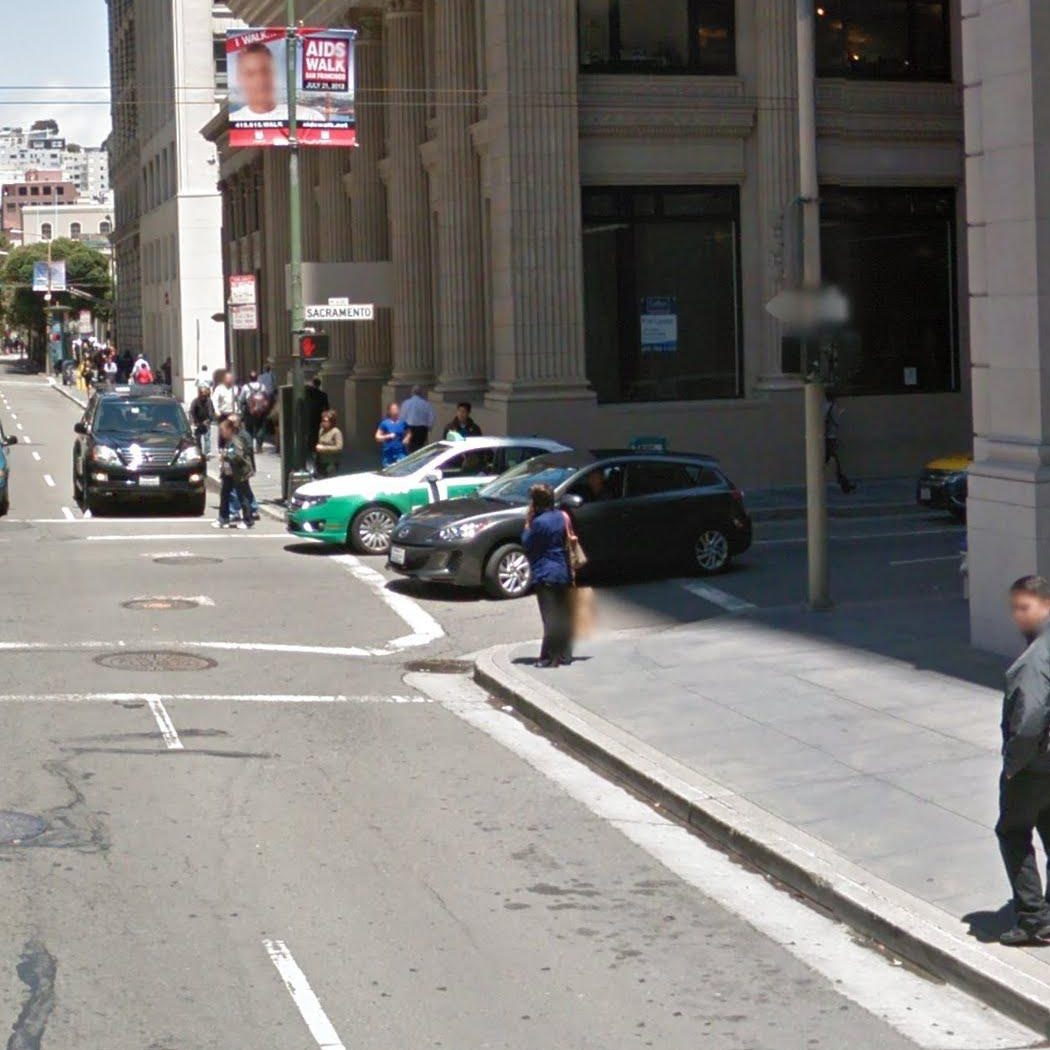No Parking: (230, 306, 257, 329)
